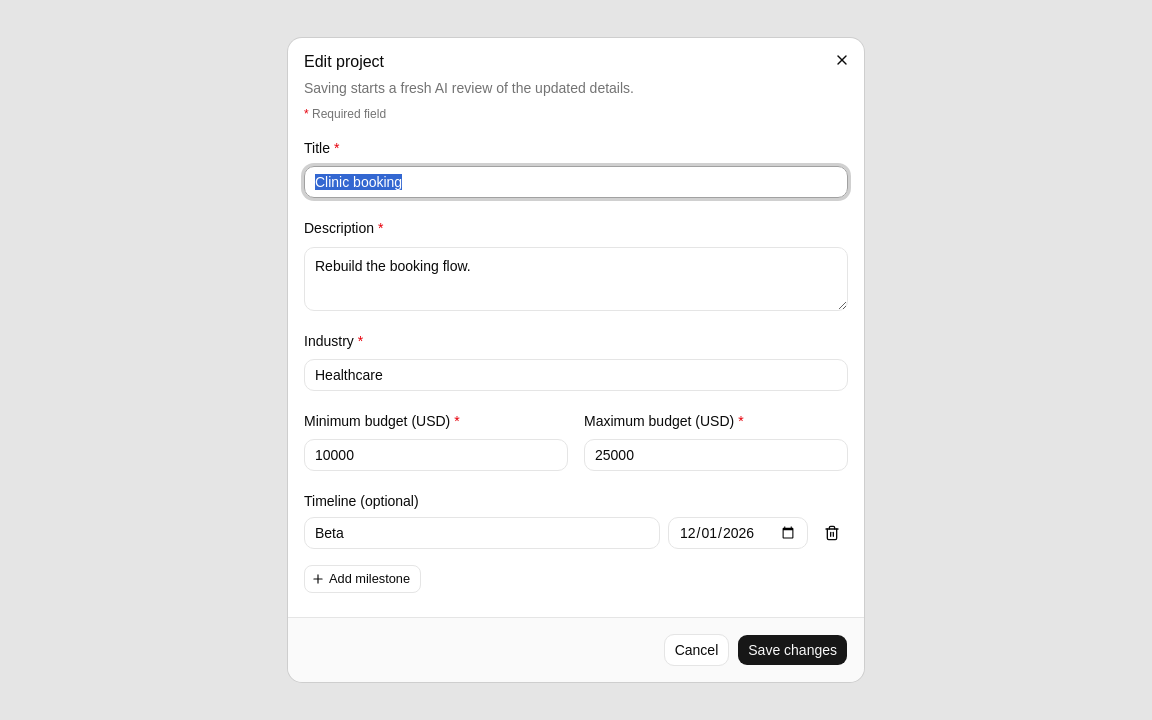
Test: ProjectFormDialog › editing › asks before discarding changes
Type " v2" into the field labelled "Title" at (576, 182), box [304, 166, 848, 198]
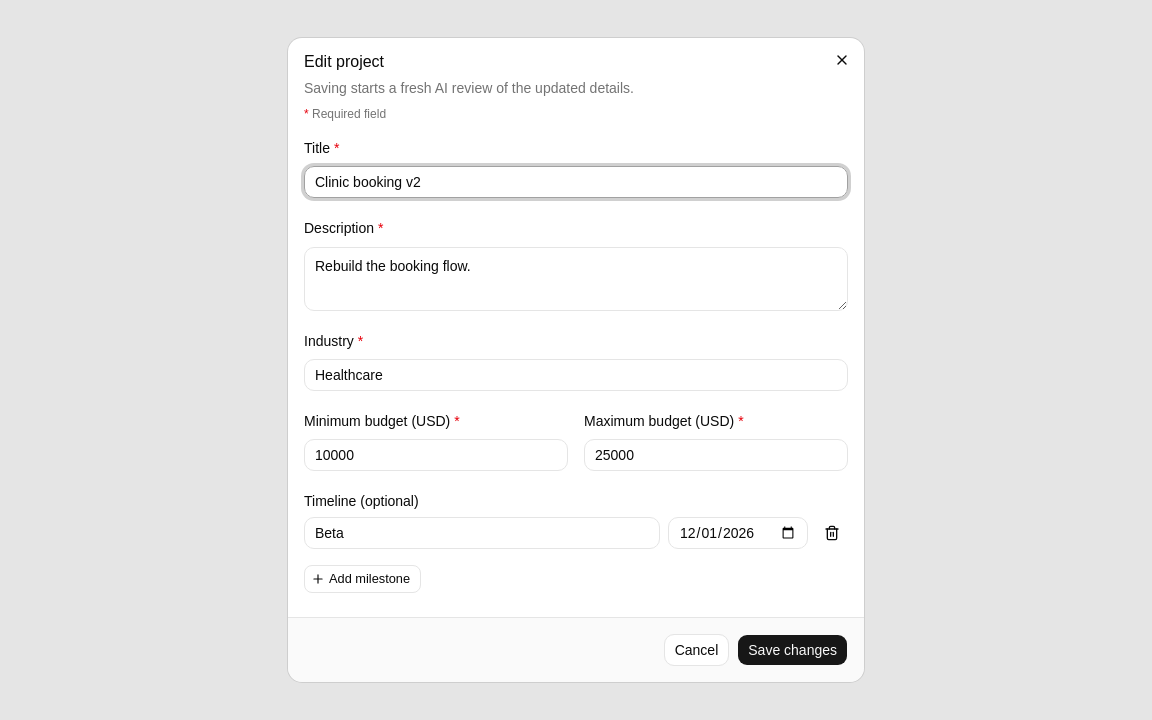
Click the button "Cancel" at (696, 650), box [664, 634, 729, 666]
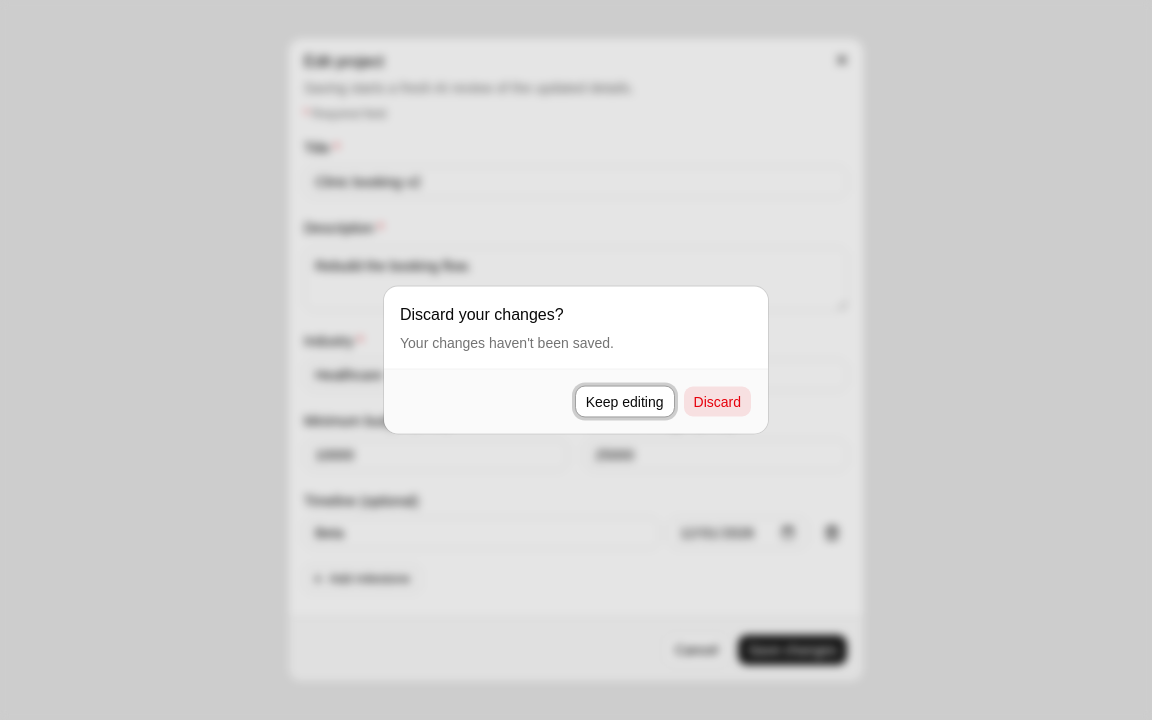
Expected: the dialog "Discard your changes?" is shown, [384, 286, 768, 434]
